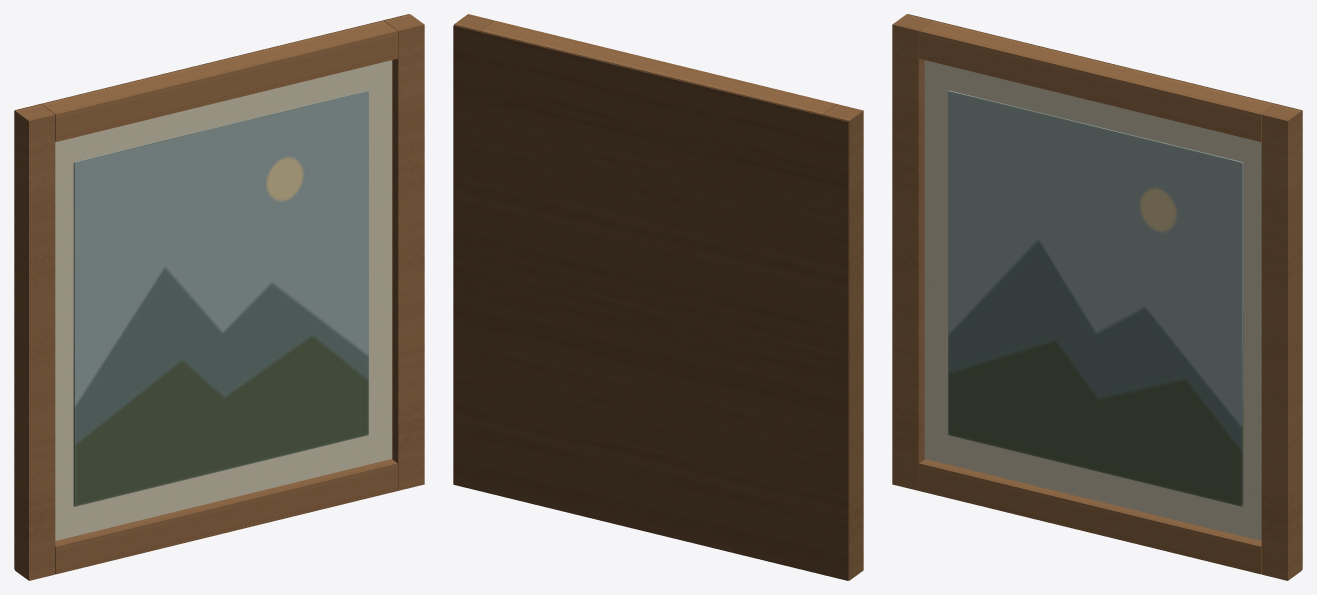
File: landscape_frame.glb
The picture shows the model from 3 angles, left to right: view 1: azimuth 30°, elevation 25°; view 2: azimuth 150°, elevation 25°; view 3: azimuth 330°, elevation 25°; orthographic projection.
Parts seen in each view (by area): view 1: home_landscape_frame; view 2: home_landscape_frame; view 3: home_landscape_frame.
Part boxes in pixels (left/top/right/bottom): home_landscape_frame: left=14, top=14, right=424, bottom=580; home_landscape_frame: left=453, top=14, right=863, bottom=580; home_landscape_frame: left=892, top=14, right=1302, bottom=580.
Bounding box in the file's own units: 0.45 × 0.5 × 0.03.
1 material, 1 textured.
